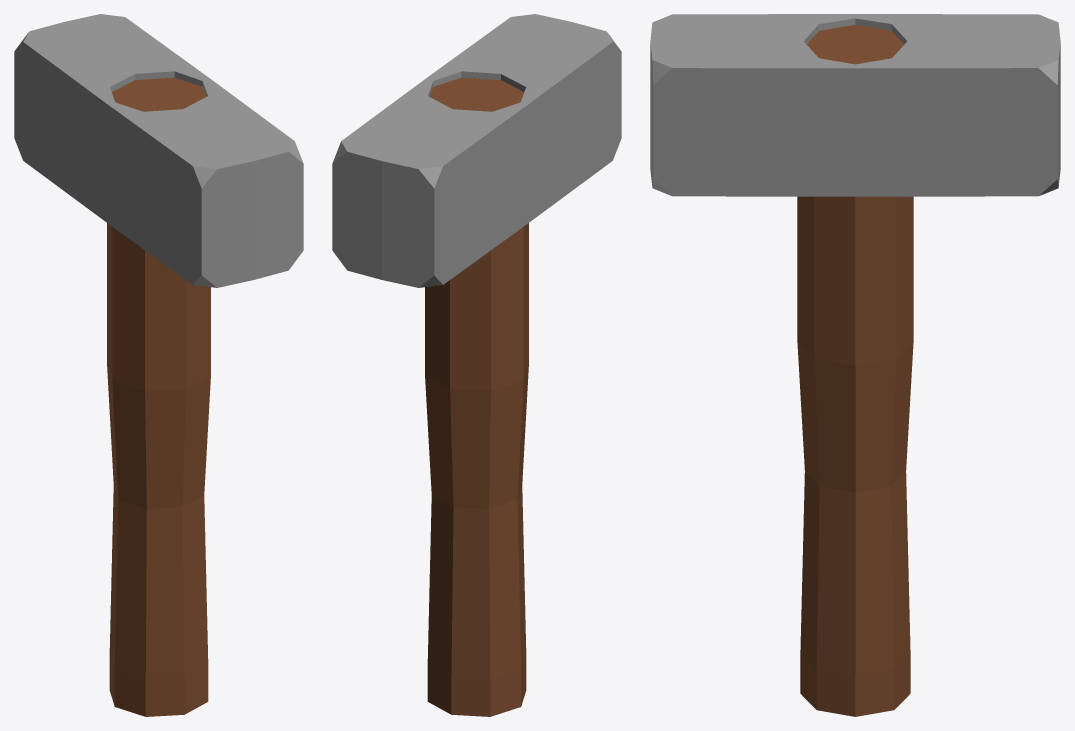
Rendered from hammer01.obj.
3 renders of one model, left to right at view 1: azimuth 30°, elevation 25°; view 2: azimuth 150°, elevation 25°; view 3: azimuth 270°, elevation 25°, orthographic. The views are drawn at different scales.
Parts seen in each view (by area): view 1: Cylinder; view 2: Cylinder; view 3: Cylinder.
Part boxes in pixels (left/top/right/bottom): Cylinder: left=14, top=14, right=303, bottom=716; Cylinder: left=332, top=14, right=621, bottom=716; Cylinder: left=650, top=14, right=1060, bottom=716.
Size of the model in its own units: 0.0455 by 0.2542 by 0.1449.
Materials: 1 (1 with a texture image).
